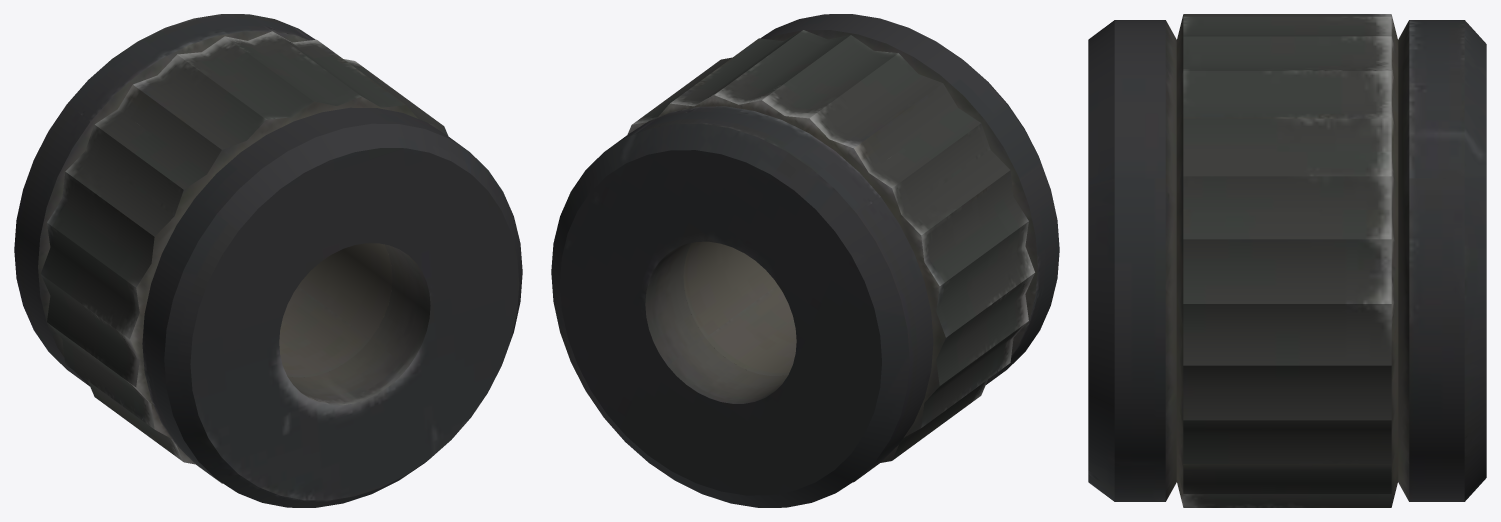
Rendered from protetor_rosca_308.glb.
The picture shows the model from 3 angles, left to right: view 1: azimuth 30°, elevation 25°; view 2: azimuth 150°, elevation 25°; view 3: azimuth 270°, elevation 25°; orthographic projection. The views are drawn at different scales.
Visible parts, largest first — view 1: protetor_rosca_308_boca; view 2: protetor_rosca_308_boca; view 3: protetor_rosca_308_boca.
Part boxes in pixels (x1,y1,x2,y2): protetor_rosca_308_boca: (14,14,522,507); protetor_rosca_308_boca: (551,14,1059,507); protetor_rosca_308_boca: (1088,14,1486,507).
Size of the model in its own units: 0.0224 by 0.0224 by 0.018.
1 material, 1 textured.
